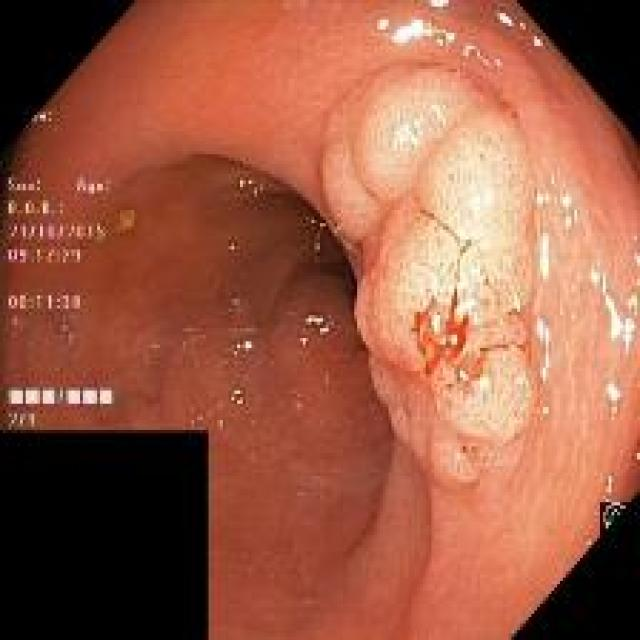Polyps: (321, 66, 535, 489)
